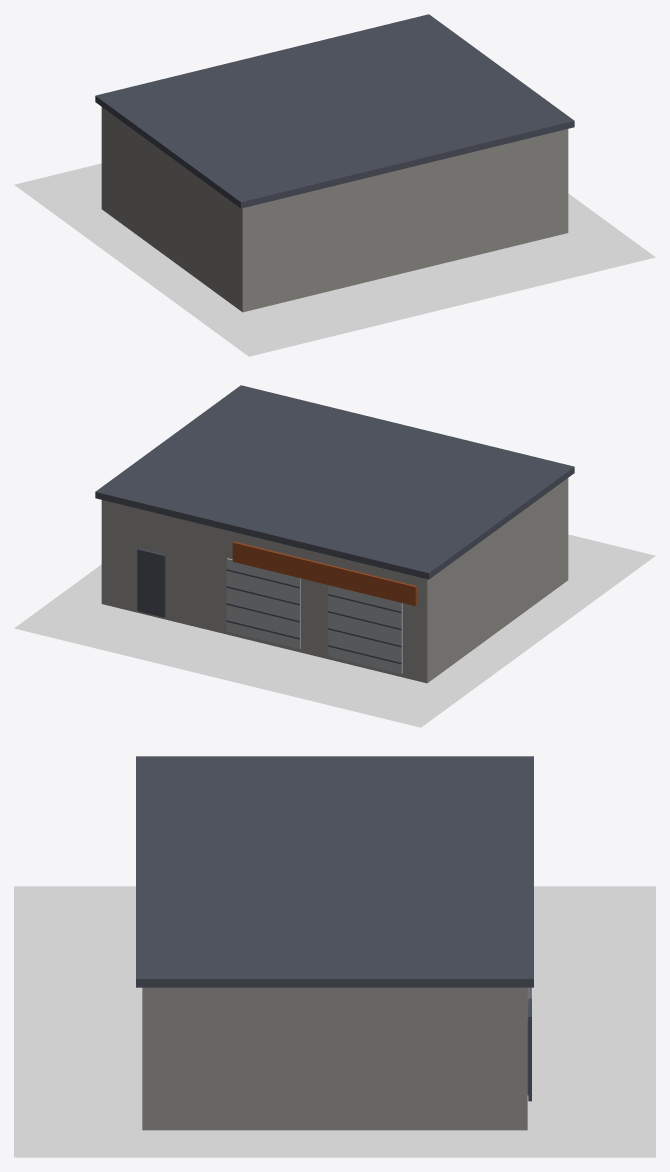
Rendered from auto-repair.glb.
3 renders of one model, top to bottom at view 1: azimuth 30°, elevation 25°; view 2: azimuth 150°, elevation 25°; view 3: azimuth 270°, elevation 25°, orthographic. The views are drawn at different scales.
Visible parts, largest first — view 1: Cube.001, Cube, Plane; view 2: Cube.001, Cube, Plane, Cube.008, Cube.003, Cube.002, Cube.014; view 3: Cube.001, Plane, Cube.
Boxes of the visible parts, x1,y1,x2,y2 form: Cube.001: [95, 14, 574, 208]; Cube: [101, 107, 568, 312]; Plane: [14, 163, 655, 356]; Cube.001: [95, 385, 574, 579]; Cube: [101, 478, 568, 683]; Plane: [14, 534, 655, 727]; Cube.008: [226, 558, 300, 648]; Cube.003: [328, 585, 402, 673]; Cube.002: [232, 541, 416, 606]; Cube.014: [137, 548, 165, 617]; Cube.001: [136, 756, 533, 987]; Plane: [14, 886, 655, 1157]; Cube: [142, 987, 527, 1130].
Size of the model in its own units: 20 by 5.3 by 20.
